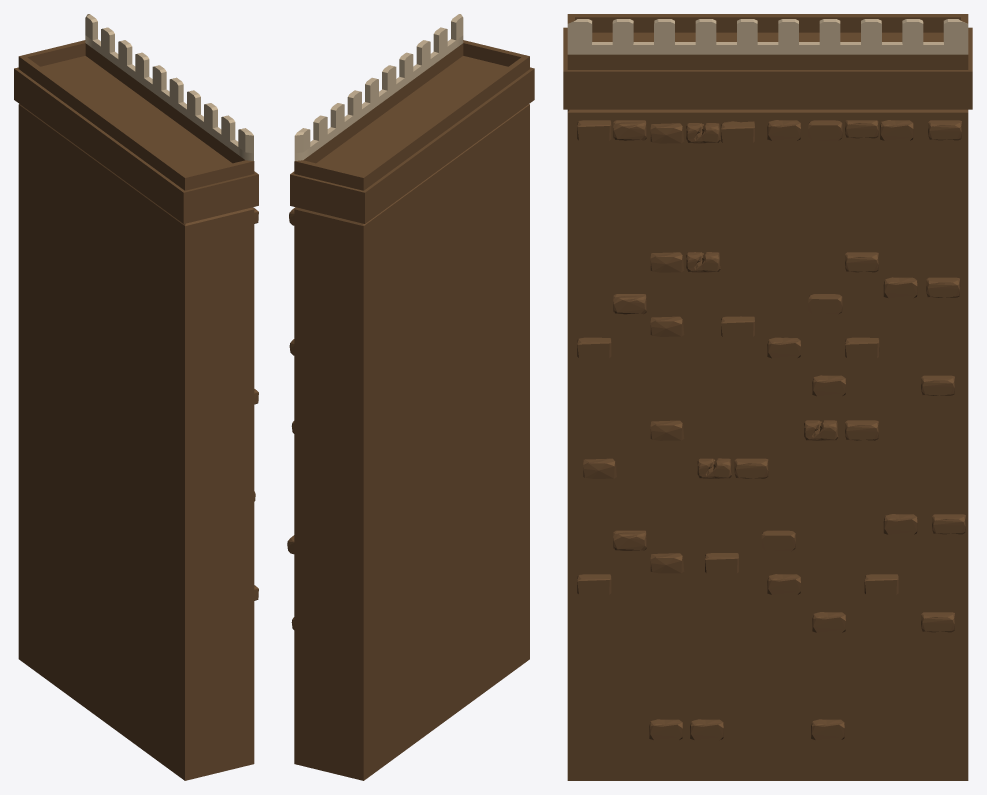
The model's file is SM_wall_part_03.fbx.
3 renders of one model, left to right at view 1: azimuth 30°, elevation 25°; view 2: azimuth 150°, elevation 25°; view 3: azimuth 270°, elevation 25°, orthographic. The views are drawn at different scales.
Visible parts, largest first — view 1: wall_part_03; view 2: wall_part_03; view 3: wall_part_03.
Boxes of the visible parts, x1=… form: wall_part_03: x1=14, y1=14, x2=258, y2=780; wall_part_03: x1=287, y1=14, x2=534, y2=780; wall_part_03: x1=563, y1=14, x2=972, y2=780.
Size of the model in its own units: 147 by 1044 by 510.
